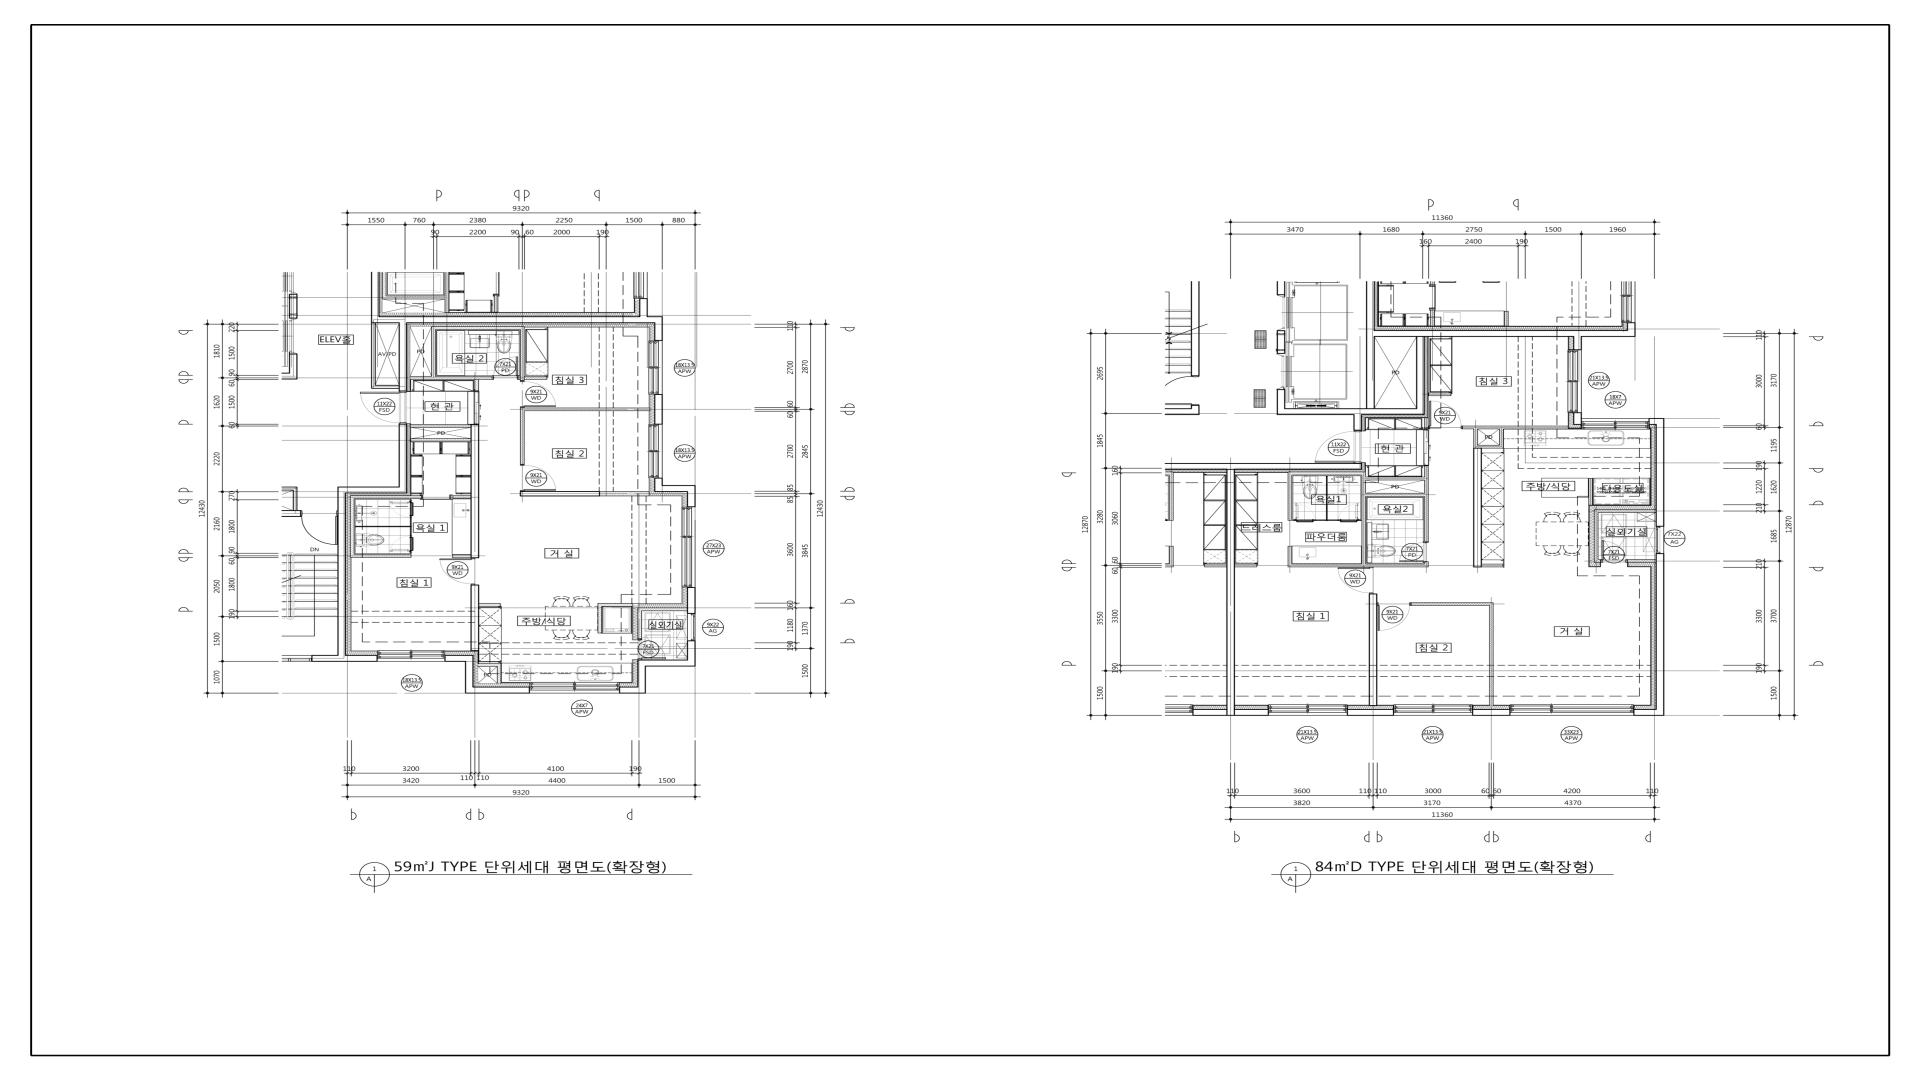door: (360, 390, 407, 423), (1315, 431, 1362, 463), (301, 510, 338, 545), (1428, 401, 1462, 430), (1164, 376, 1199, 405), (439, 558, 475, 585), (1337, 567, 1374, 593), (520, 464, 556, 491), (520, 381, 556, 407), (1377, 603, 1411, 630), (492, 356, 520, 380), (1399, 541, 1428, 562), (1601, 541, 1627, 563), (638, 638, 666, 659), (1292, 502, 1316, 522), (389, 500, 414, 518), (389, 535, 414, 554), (1338, 502, 1361, 522), (473, 392, 480, 425), (1424, 430, 1429, 465), (419, 495, 452, 500)
wall: (1226, 469, 1236, 716), (380, 316, 663, 323), (1375, 330, 1582, 338), (1164, 463, 1362, 469), (1656, 554, 1664, 716), (338, 493, 345, 655), (1366, 281, 1375, 409), (1473, 448, 1482, 567), (471, 425, 479, 558), (1286, 409, 1424, 415), (1369, 593, 1377, 705), (1656, 425, 1664, 526), (1191, 281, 1199, 376), (398, 423, 407, 493), (398, 323, 407, 390), (471, 584, 480, 651), (1416, 338, 1424, 409), (1489, 607, 1494, 705), (520, 407, 650, 411), (520, 492, 649, 496), (1361, 472, 1366, 567), (371, 272, 380, 323), (311, 655, 377, 662), (1462, 426, 1568, 430), (338, 487, 398, 493), (646, 659, 696, 667), (473, 687, 529, 694), (435, 326, 525, 330), (371, 323, 376, 389), (1594, 513, 1601, 563), (1366, 562, 1428, 567), (410, 376, 492, 380), (1346, 709, 1394, 716), (349, 496, 355, 554), (1424, 465, 1428, 542), (1287, 563, 1361, 567), (654, 394, 663, 425), (520, 411, 525, 464), (520, 330, 525, 381), (654, 485, 695, 492), (637, 659, 646, 687), (1472, 709, 1510, 716), (465, 662, 473, 694), (349, 554, 411, 558), (1287, 475, 1292, 521), (1276, 389, 1286, 415), (687, 587, 696, 613), (289, 353, 298, 380), (1594, 509, 1655, 513), (1164, 409, 1200, 415), (289, 294, 298, 319), (1366, 493, 1424, 497), (1234, 709, 1269, 716), (1276, 330, 1286, 353), (1411, 603, 1494, 605), (431, 326, 435, 376), (1287, 472, 1361, 475), (444, 655, 473, 662), (620, 687, 646, 694), (687, 641, 696, 659), (355, 496, 419, 498), (410, 425, 471, 427), (410, 439, 471, 442), (654, 323, 663, 340), (1366, 477, 1424, 480), (1634, 709, 1656, 716), (1353, 415, 1362, 431), (597, 603, 633, 607), (1588, 479, 1593, 505), (597, 607, 603, 633), (1276, 281, 1286, 295), (687, 492, 696, 506), (637, 608, 687, 611), (281, 510, 301, 517), (1325, 476, 1328, 520), (1627, 559, 1655, 563), (1573, 338, 1582, 349), (1473, 429, 1478, 448), (1648, 418, 1664, 425), (638, 612, 642, 638), (1478, 444, 1503, 448), (1573, 413, 1581, 425), (477, 663, 501, 667), (1287, 546, 1292, 563), (479, 603, 501, 607), (525, 376, 547, 380), (376, 385, 398, 389), (293, 491, 297, 510), (452, 554, 471, 558), (452, 496, 471, 500), (355, 526, 409, 527), (1428, 393, 1452, 396), (497, 667, 501, 683), (281, 487, 297, 491), (654, 479, 663, 485), (1234, 564, 1257, 567), (1499, 430, 1503, 444), (1482, 564, 1503, 567), (281, 373, 289, 380), (475, 380, 479, 392), (409, 518, 411, 535), (1424, 418, 1428, 429), (1316, 520, 1338, 521), (1191, 405, 1199, 407)
window: (1510, 704, 1634, 716), (529, 682, 620, 694), (682, 506, 695, 588), (1269, 704, 1346, 716), (1394, 704, 1472, 716), (1568, 349, 1581, 413), (1581, 418, 1648, 430), (377, 650, 444, 662), (649, 340, 663, 394), (649, 425, 662, 477), (1656, 526, 1664, 554), (687, 613, 695, 641), (281, 655, 311, 662)
